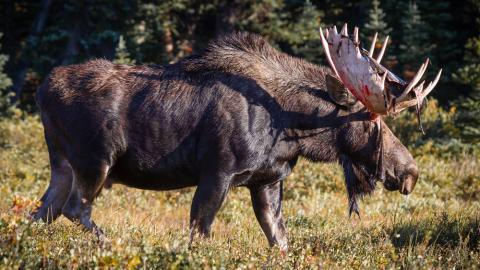moose: (24, 17, 446, 243)
